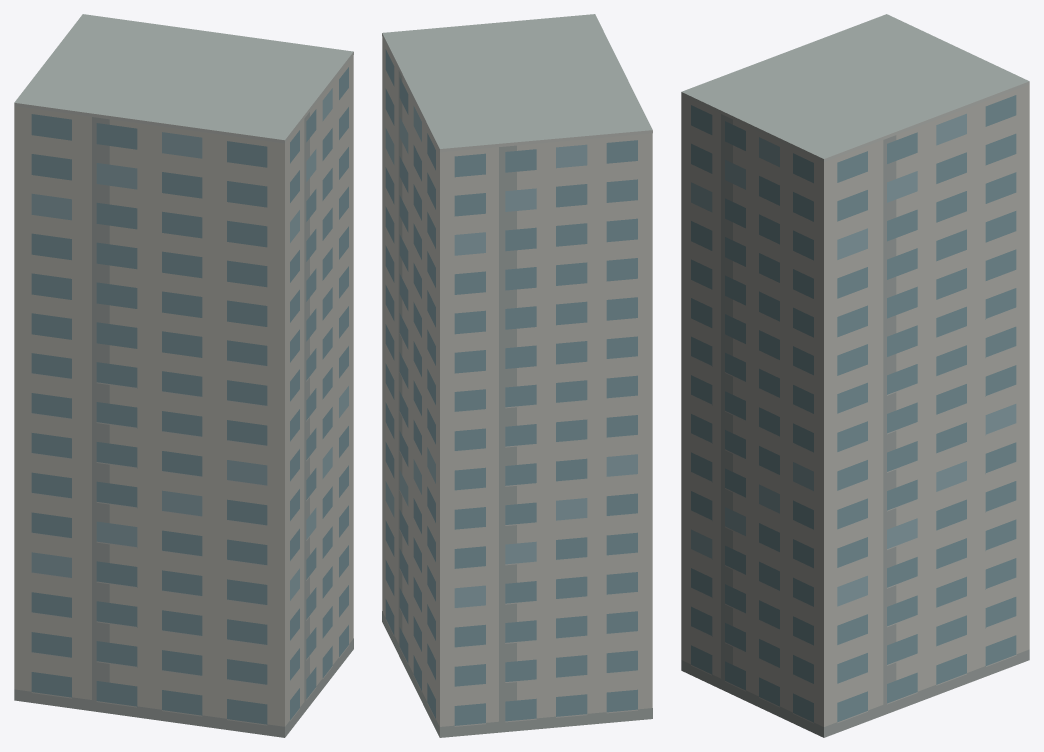
Rendered from residential-de0fc947-a2de-4954-a701-d085a396e24b.glb.
3 renders of one model, left to right at view 1: azimuth 30°, elevation 25°; view 2: azimuth 150°, elevation 25°; view 3: azimuth 270°, elevation 25°, orthographic. The views are drawn at different scales.
Visible parts, largest first — view 1: residential-de0fc947-a2de-4954-a701-d085a396e24b.tmp; view 2: residential-de0fc947-a2de-4954-a701-d085a396e24b.tmp; view 3: residential-de0fc947-a2de-4954-a701-d085a396e24b.tmp.
Part boxes in pixels (<box>): residential-de0fc947-a2de-4954-a701-d085a396e24b.tmp: <box>14,14,353,737</box>; residential-de0fc947-a2de-4954-a701-d085a396e24b.tmp: <box>382,14,652,737</box>; residential-de0fc947-a2de-4954-a701-d085a396e24b.tmp: <box>681,14,1029,737</box>.
Size of the model in its own units: 23.13 by 43 by 23.46.
